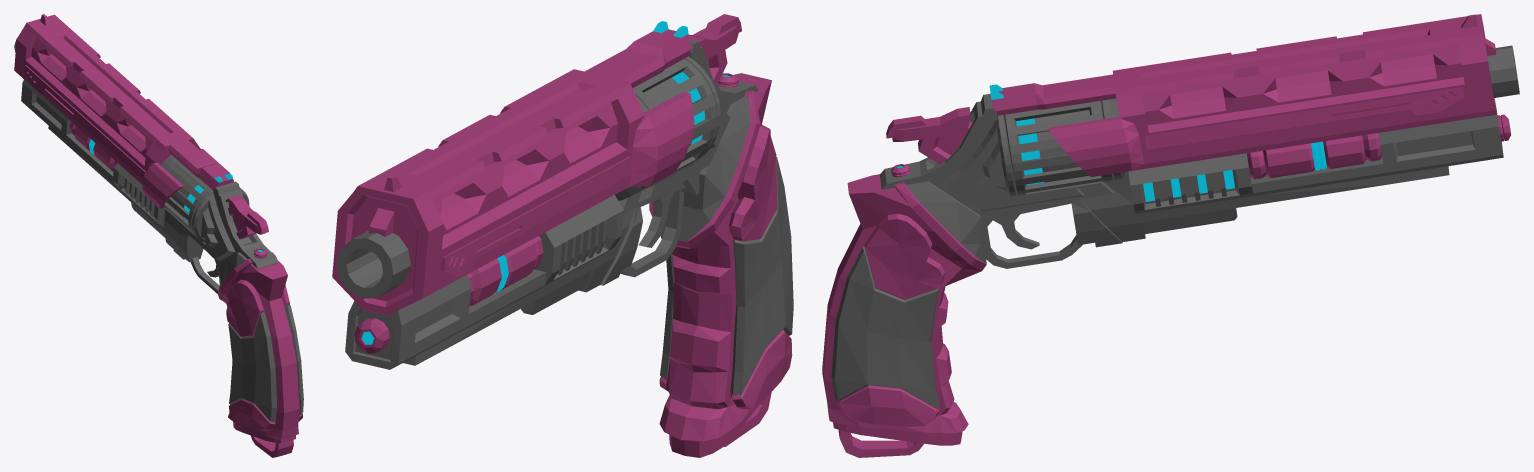
File: remake_306.glb
3 renders of one model, left to right at view 1: azimuth 30°, elevation 25°; view 2: azimuth 150°, elevation 25°; view 3: azimuth 270°, elevation 25°, orthographic. The views are drawn at different scales.
Visible parts, largest first — view 1: remake_306; view 2: remake_306; view 3: remake_306.
Part boxes in pixels (bbox=[...]): remake_306: bbox=[14, 14, 303, 457]; remake_306: bbox=[332, 14, 793, 457]; remake_306: bbox=[822, 14, 1519, 457].
Size of the model in its own units: 0.0855 by 0.3347 by 0.5019.
